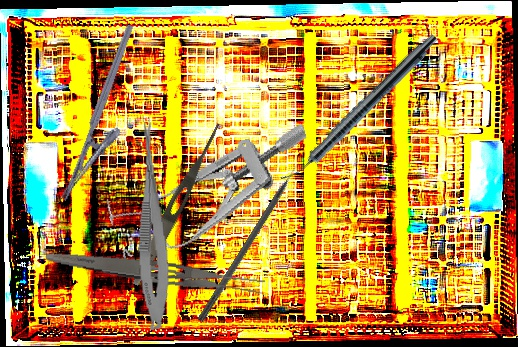Dressing Forceps: (128, 119, 225, 289), (44, 247, 266, 299)
Handpiece: (279, 28, 441, 191)
Hook Surgical: (197, 159, 305, 324)
Micro Scissor: (128, 113, 173, 331)
Needle Holder: (59, 23, 158, 211)
Speculum: (99, 122, 329, 272)
